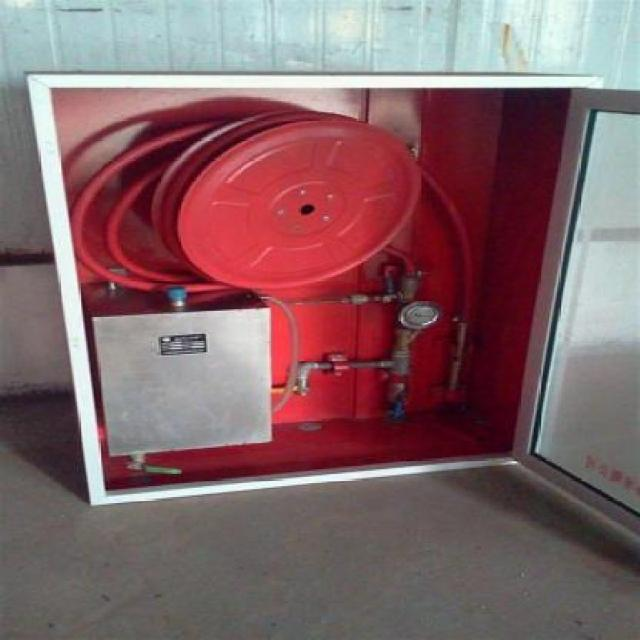firehydrant: (18, 64, 640, 578)
